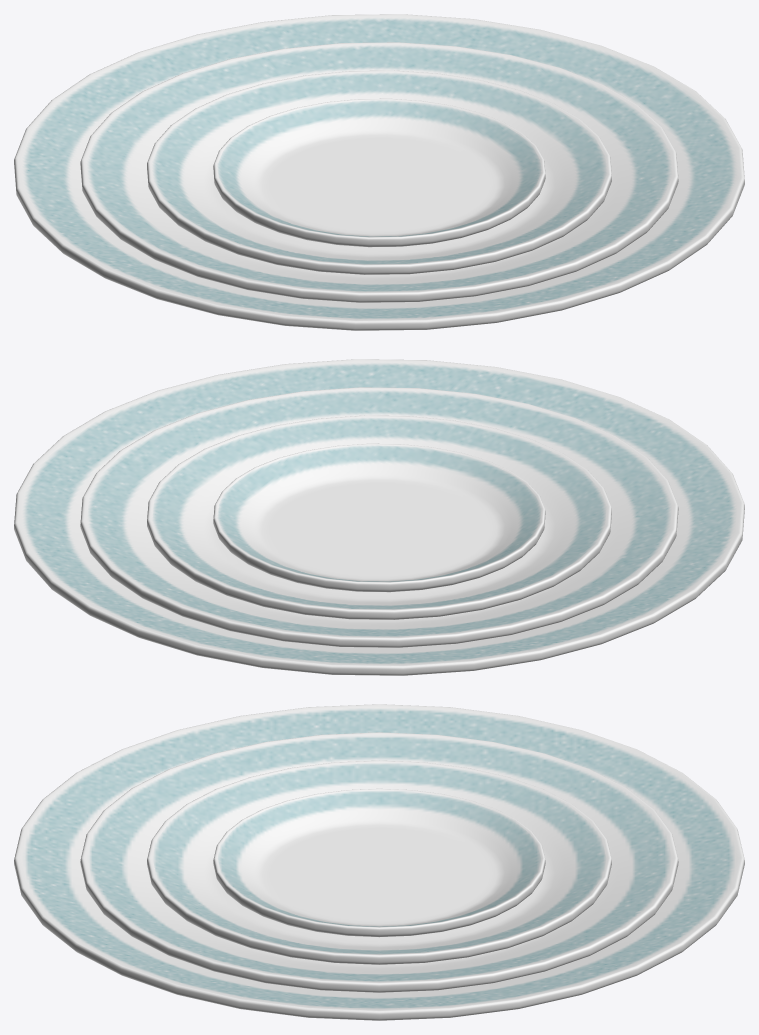
File: ceramic-plate-set-6d059a.glb
3 renders of one model, top to bottom at view 1: azimuth 30°, elevation 25°; view 2: azimuth 150°, elevation 25°; view 3: azimuth 270°, elevation 25°, orthographic.
Parts seen in each view (by area): view 1: PropMesh; view 2: PropMesh; view 3: PropMesh.
Boxes of the visible parts, x1=… form: PropMesh: x1=14, y1=14, x2=744, y2=330; PropMesh: x1=14, y1=359, x2=744, y2=675; PropMesh: x1=14, y1=704, x2=744, y2=1020.
Bounding box in the file's own units: 5.71 × 0.3502 × 5.71.
1 material, 1 textured.
